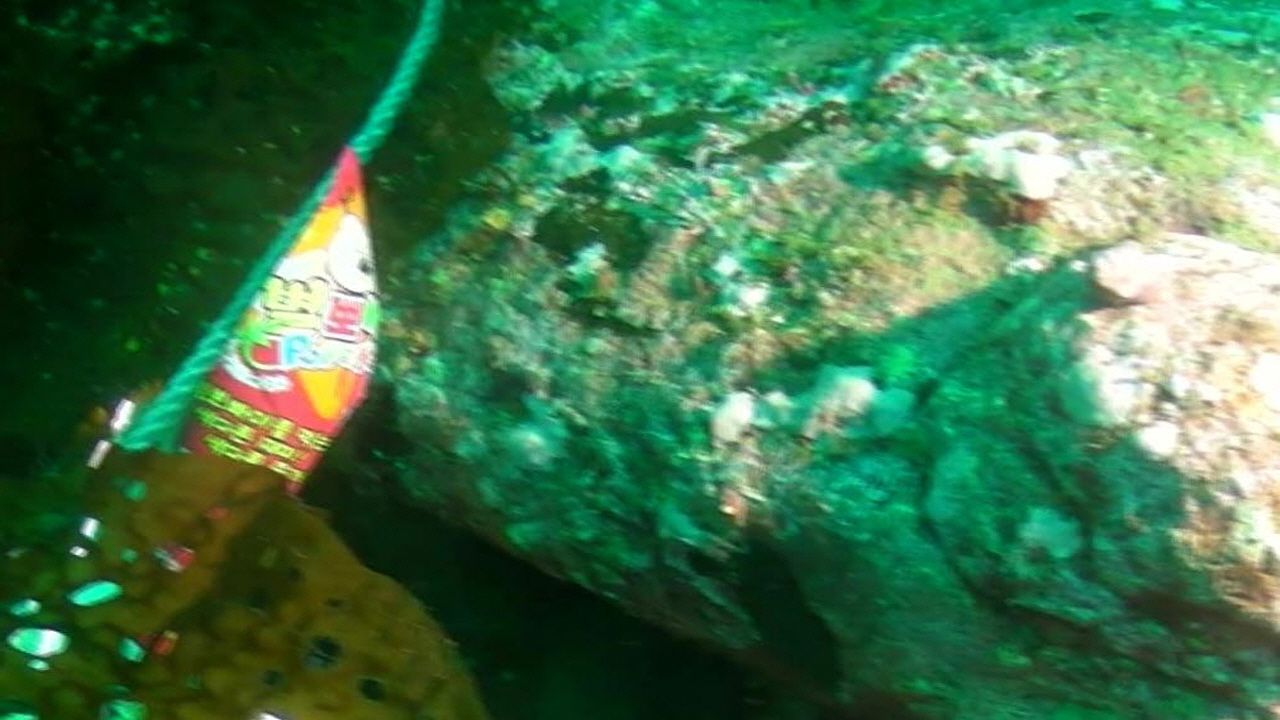rope: (119, 0, 443, 449)
